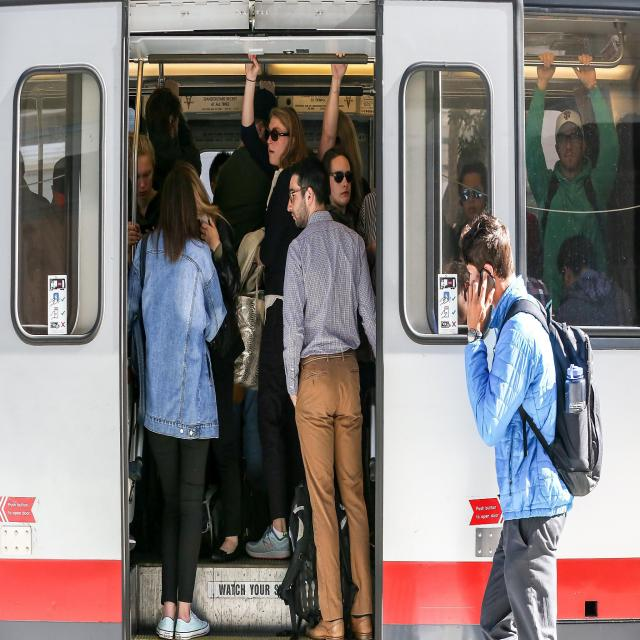body: (456, 213, 605, 640), (280, 153, 391, 640), (122, 158, 226, 640), (240, 51, 310, 559), (175, 159, 248, 564), (525, 50, 620, 315), (19, 139, 78, 328), (552, 234, 637, 326), (142, 85, 202, 194), (122, 130, 162, 278), (210, 148, 246, 278), (321, 146, 362, 233), (358, 188, 377, 365), (456, 161, 488, 261), (356, 178, 378, 296), (333, 110, 361, 177), (252, 84, 274, 127)
